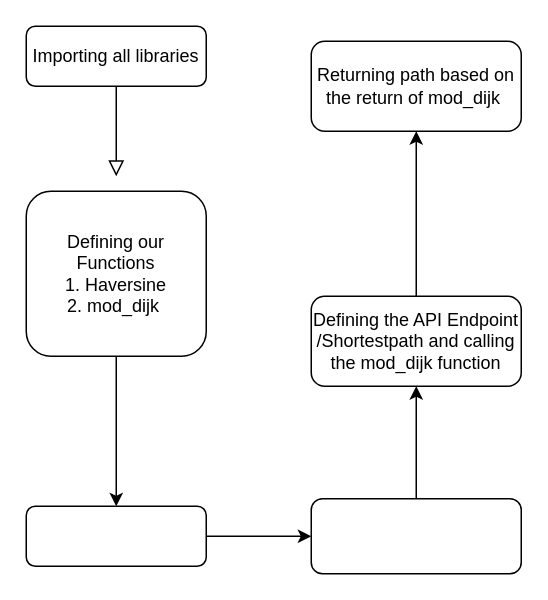
Image size: 548x600. Some labels were removed from this diagram. Here are the shapes that lost their labels. From the top down, the centre of each, then its label:
point (115, 535): Initializing FastAPI app = FastAPI()
point (415, 535): Defining the modal with start node and end node
